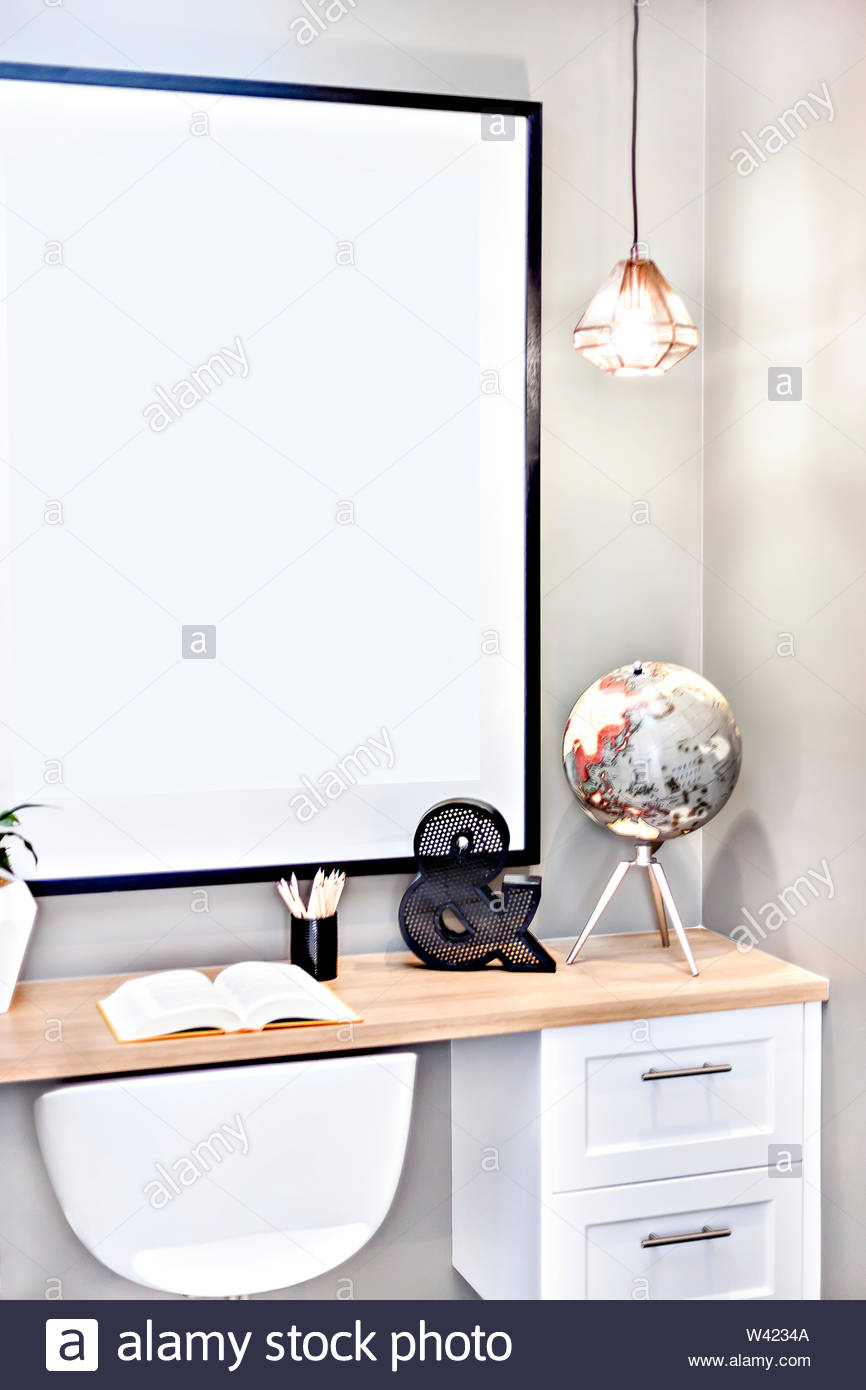Open Book: (100, 960, 363, 1043)
